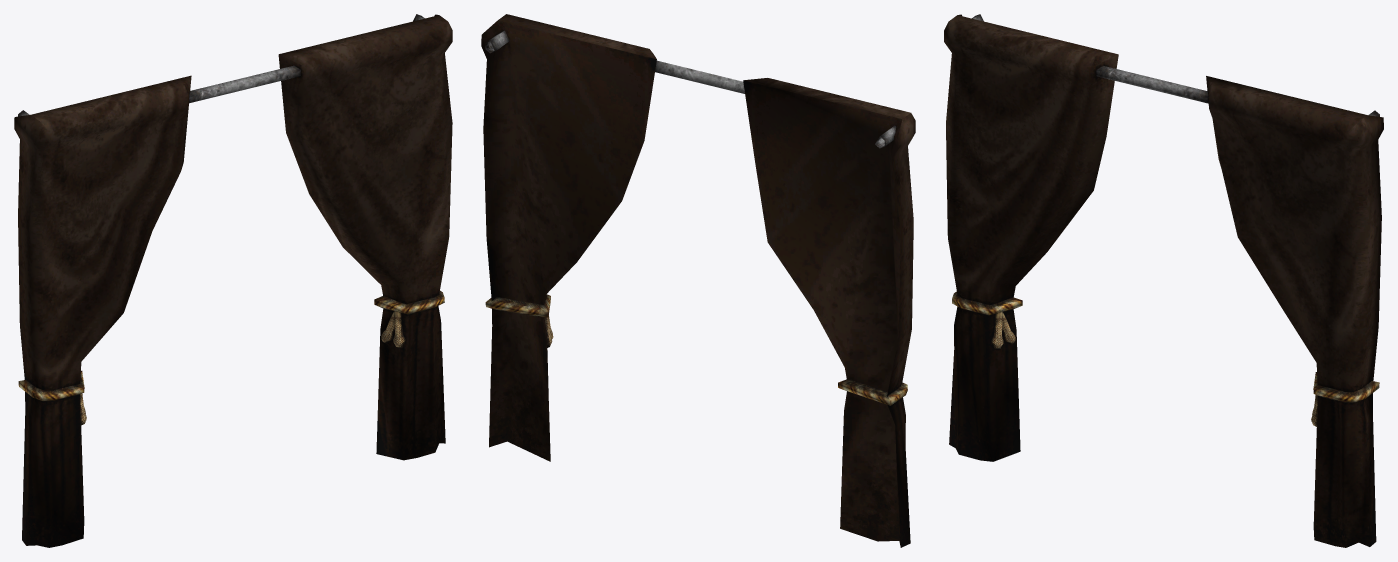
File: curtain05_open.dae
3 renders of one model, left to right at view 1: azimuth 30°, elevation 25°; view 2: azimuth 150°, elevation 25°; view 3: azimuth 330°, elevation 25°, orthographic.
Parts seen in each view (by area): view 1: curtain01_open; view 2: curtain01_open; view 3: curtain01_open.
Boxes of the visible parts, x1=… form: curtain01_open: x1=14, y1=14, x2=452, y2=547; curtain01_open: x1=481, y1=14, x2=915, y2=547; curtain01_open: x1=944, y1=14, x2=1383, y2=547.
Bounding box in the file's own units: 3.75 × 3.68 × 0.4366.
